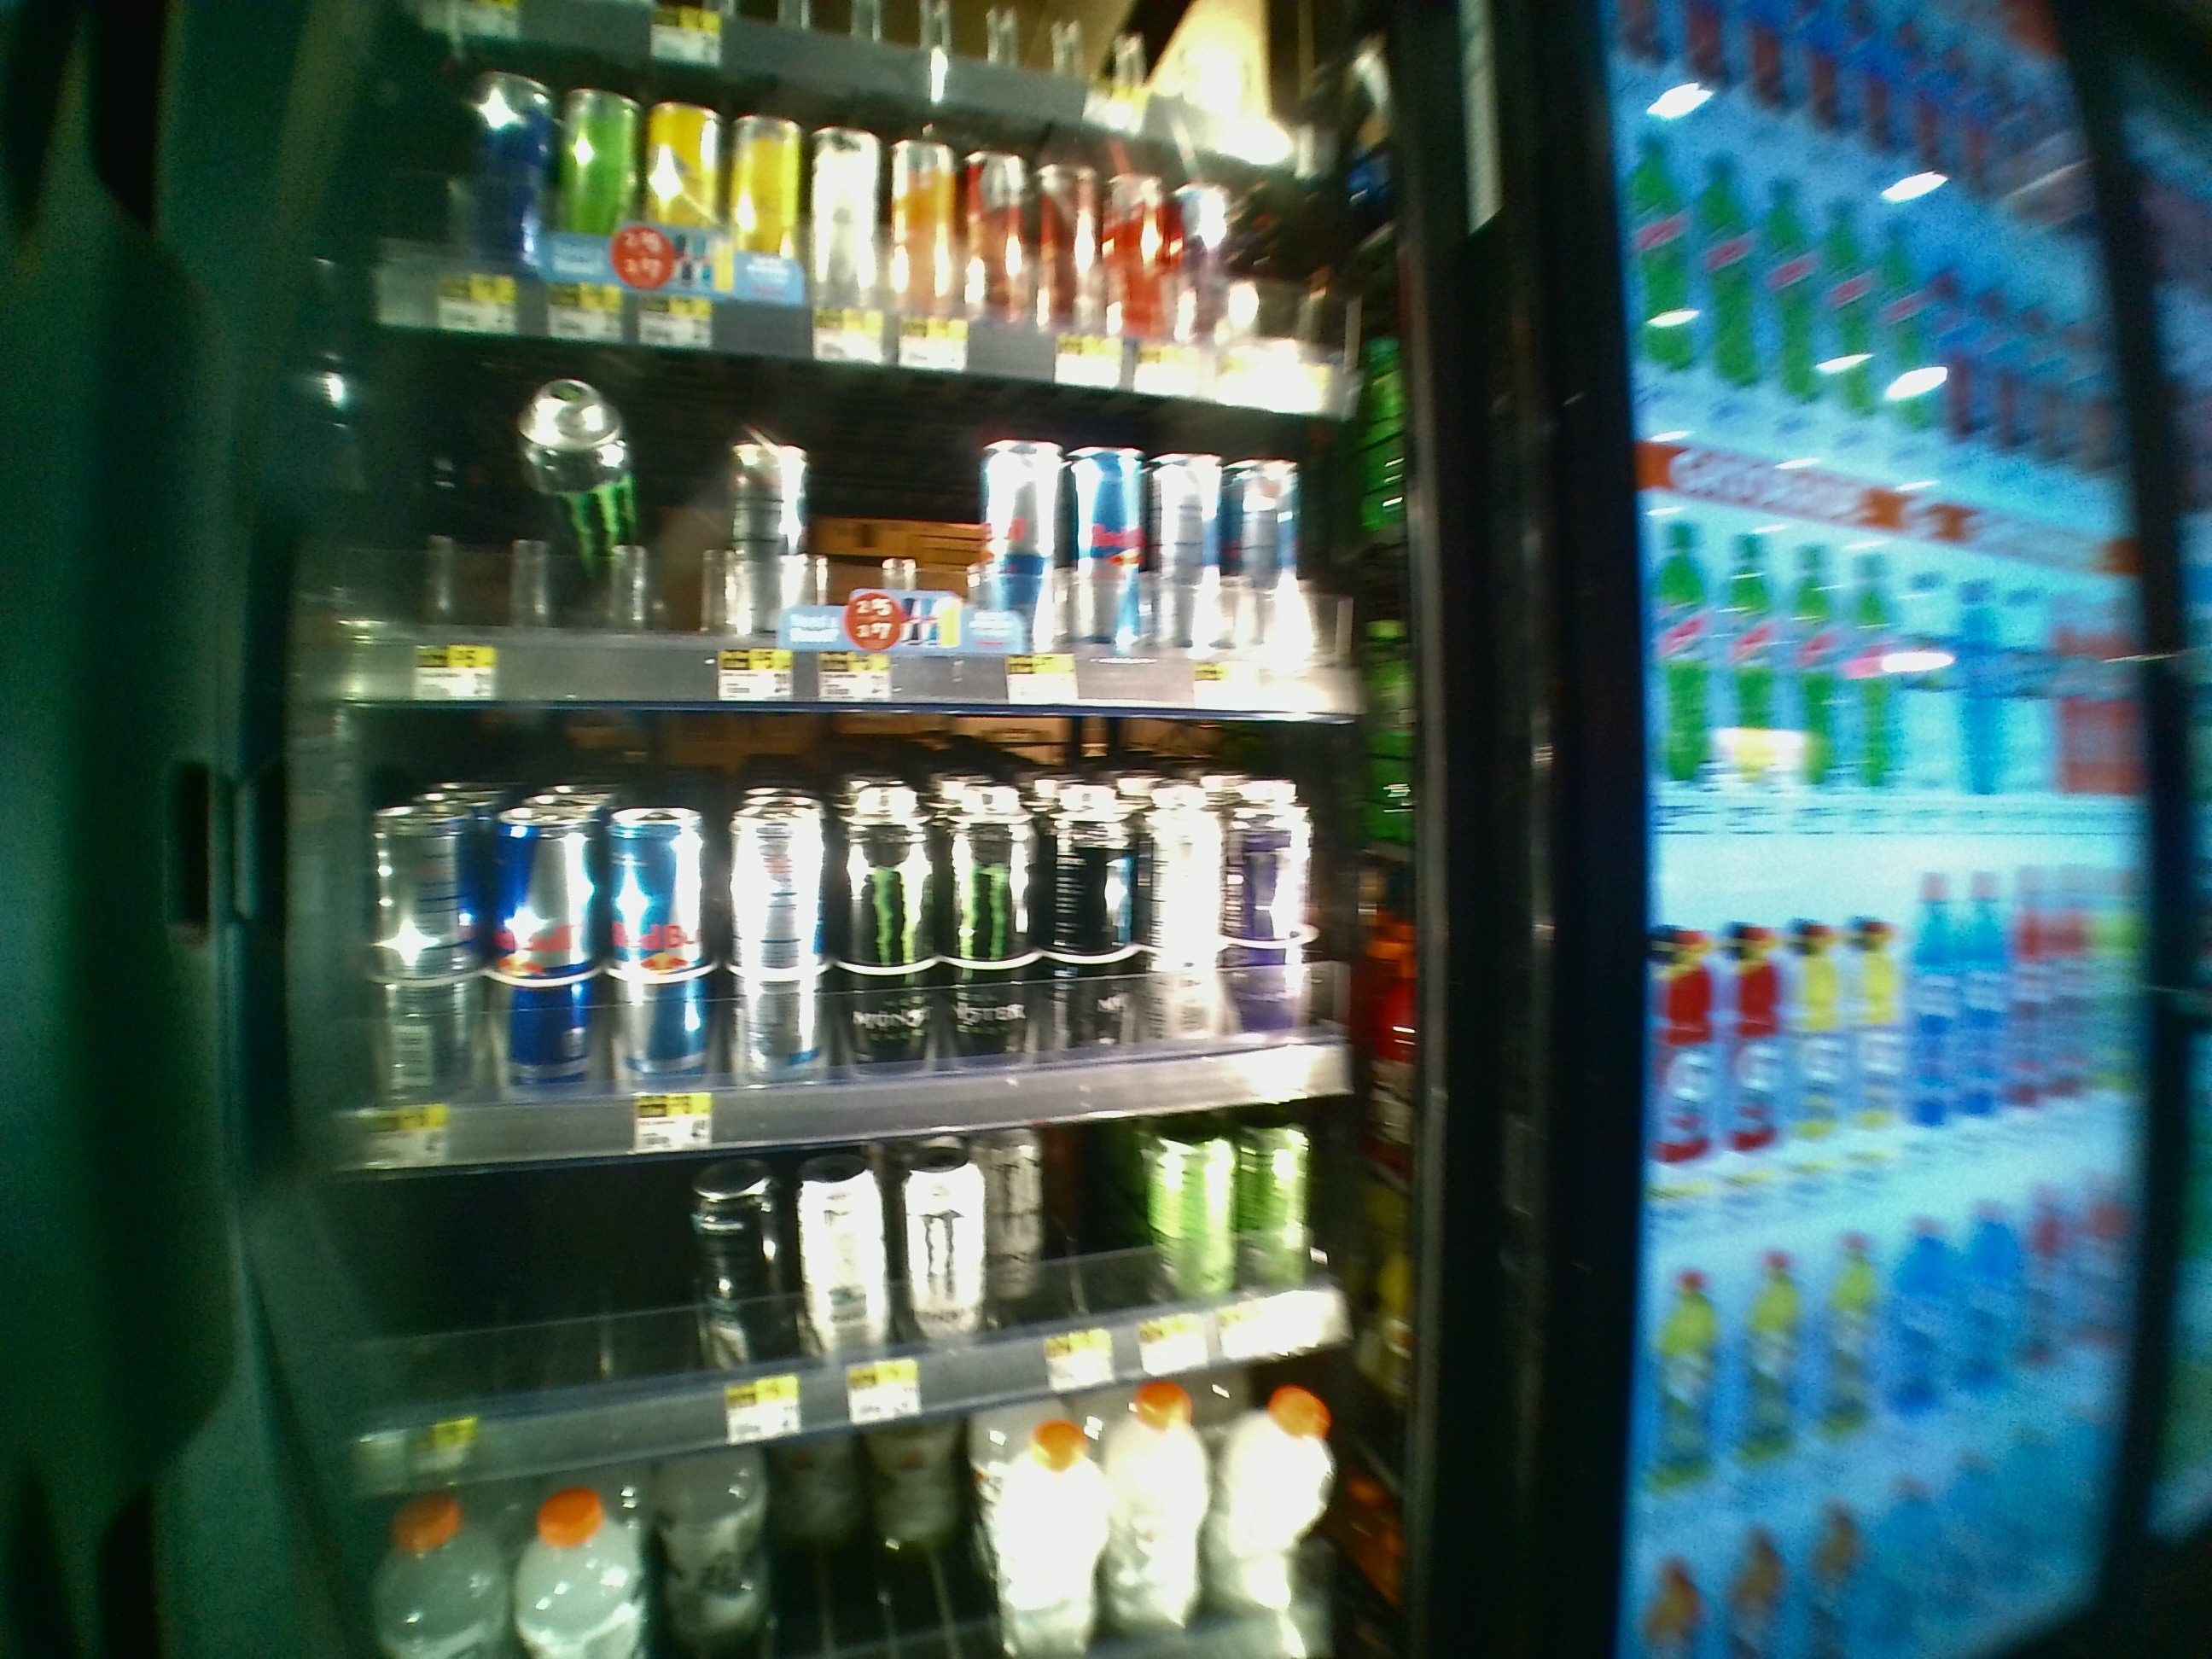shelf: (273, 655, 1437, 1129)
